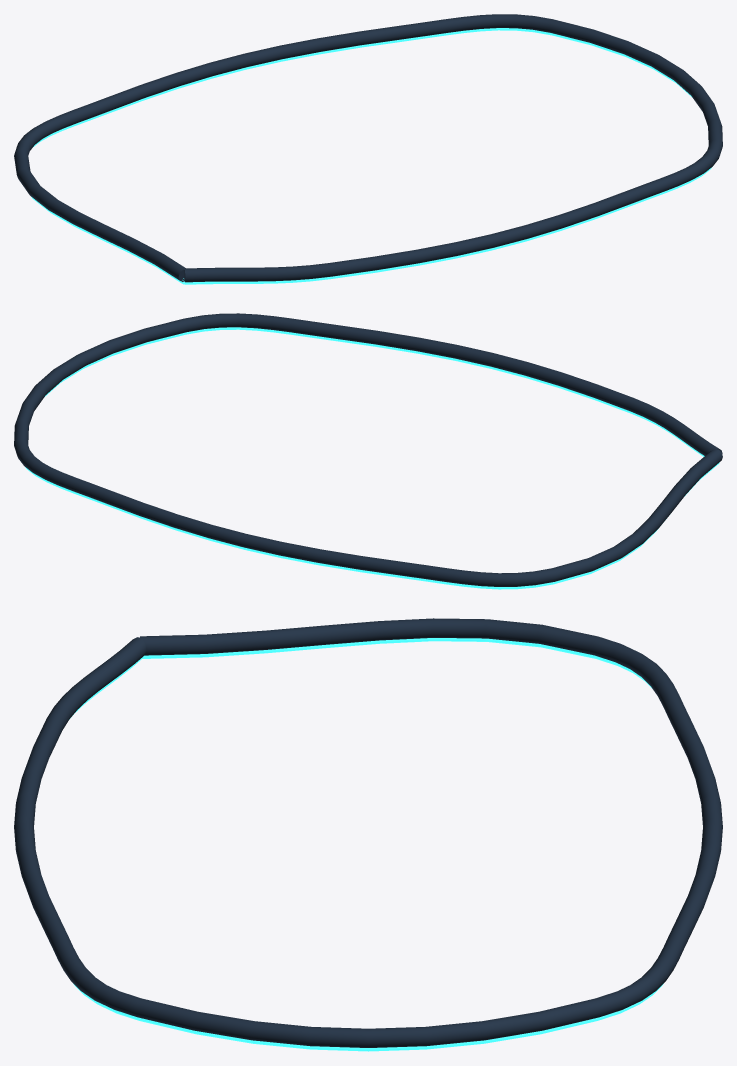
Rendered from finish_v25_arcade_hex.glb.
3 renders of one model, top to bottom at view 1: azimuth 30°, elevation 25°; view 2: azimuth 150°, elevation 25°; view 3: azimuth 270°, elevation 25°, orthographic. The views are drawn at different scales.
Parts seen in each view (by area): view 1: finish_v25_arcade_hex_V25_arcade_navy, finish_v25_arcade_hex_V25_neon_cyan; view 2: finish_v25_arcade_hex_V25_arcade_navy, finish_v25_arcade_hex_V25_neon_cyan; view 3: finish_v25_arcade_hex_V25_arcade_navy, finish_v25_arcade_hex_V25_neon_cyan.
Boxes of the visible parts, x1,y1,x2,y2 form: finish_v25_arcade_hex_V25_arcade_navy: (14,14,722,282); finish_v25_arcade_hex_V25_neon_cyan: (31,28,711,284); finish_v25_arcade_hex_V25_arcade_navy: (14,313,722,586); finish_v25_arcade_hex_V25_neon_cyan: (25,327,719,589); finish_v25_arcade_hex_V25_arcade_navy: (14,618,722,1047); finish_v25_arcade_hex_V25_neon_cyan: (69,638,663,1051).
Size of the model in its own units: 3.47 by 0.0804 by 2.48.
